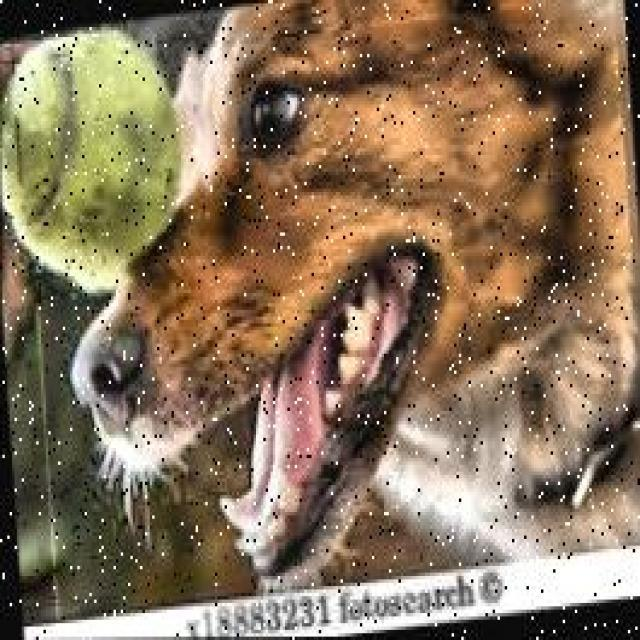tennis-ball: (1, 20, 216, 303)
